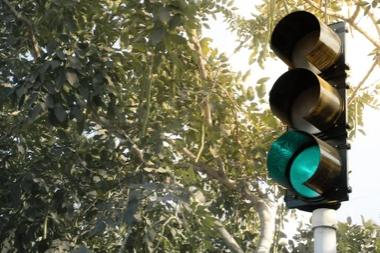green_light: (267, 11, 352, 208)
